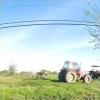tractors: (59, 61, 93, 84)
